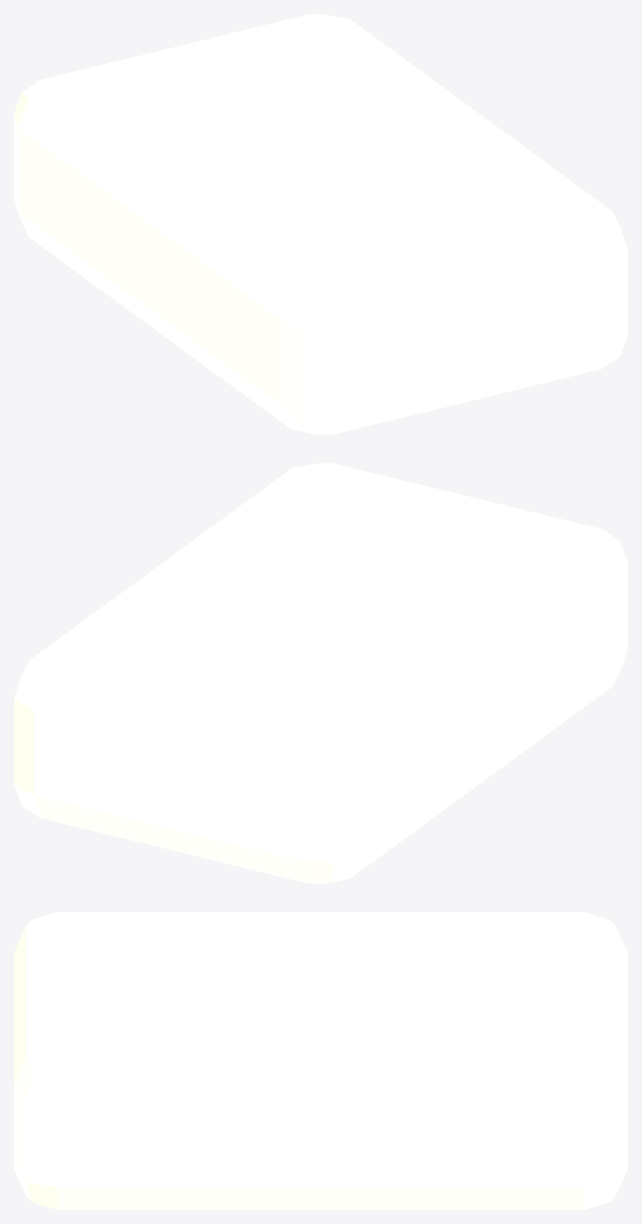
Rendered from PureGold24K.fbx.
The picture shows the model from 3 angles, top to bottom: view 1: azimuth 30°, elevation 25°; view 2: azimuth 150°, elevation 25°; view 3: azimuth 270°, elevation 25°; orthographic projection.
Visible parts, largest first — view 1: MainMesh; view 2: MainMesh; view 3: MainMesh.
Part boxes in pixels (x1=…): MainMesh: x1=14, y1=14, x2=627, y2=434; MainMesh: x1=14, y1=463, x2=627, y2=883; MainMesh: x1=14, y1=912, x2=627, y2=1209.
Bounding box in the file's own units: 1.1 × 0.5 × 1.7.
